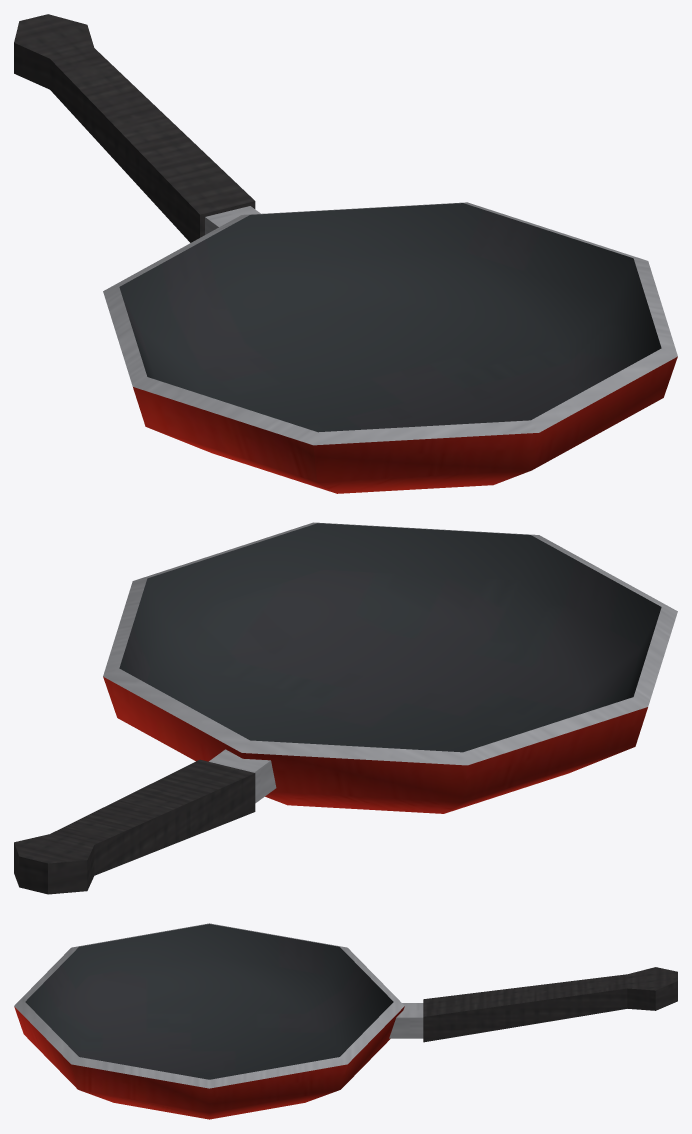
The model's file is Sarten_01-col.glb.
3 renders of one model, top to bottom at view 1: azimuth 30°, elevation 25°; view 2: azimuth 150°, elevation 25°; view 3: azimuth 270°, elevation 25°, orthographic. The views are drawn at different scales.
Visible parts, largest first — view 1: Sarten_01-col; view 2: Sarten_01-col; view 3: Sarten_01-col.
Boxes of the visible parts, x1,y1,x2,y2 form: Sarten_01-col: (14, 14, 677, 493); Sarten_01-col: (14, 522, 677, 894); Sarten_01-col: (14, 923, 677, 1119).
Bounding box in the file's own units: 0.3758 × 0.0912 × 0.6384.
4 materials, 4 textured.
